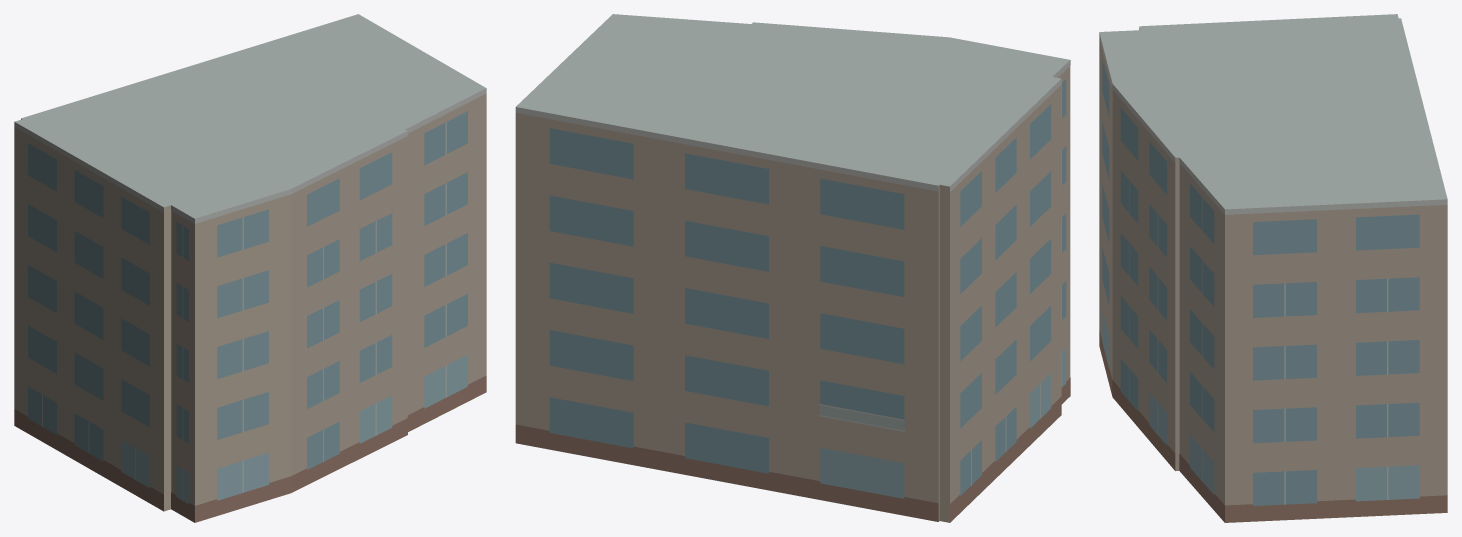
Rendered from survey-upis-32698140.glb.
3 views of the same model, side by side, from view 1: azimuth 30°, elevation 25°; view 2: azimuth 150°, elevation 25°; view 3: azimuth 270°, elevation 25° (orthographic). The views are drawn at different scales.
Parts seen in each view (by area): view 1: survey-upis-32698140.tmp; view 2: survey-upis-32698140.tmp; view 3: survey-upis-32698140.tmp.
Part boxes in pixels (<box>): survey-upis-32698140.tmp: <box>14,14,486,522</box>; survey-upis-32698140.tmp: <box>515,14,1070,522</box>; survey-upis-32698140.tmp: <box>1099,14,1447,522</box>.
Size of the model in its own units: 18.79 by 14.05 by 14.16.
